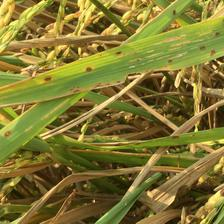0 BrownSpot: (2, 128, 13, 139), (42, 74, 53, 81), (113, 48, 124, 55), (208, 45, 215, 55), (84, 65, 93, 72), (171, 133, 180, 139), (198, 44, 206, 49), (166, 58, 173, 61)
